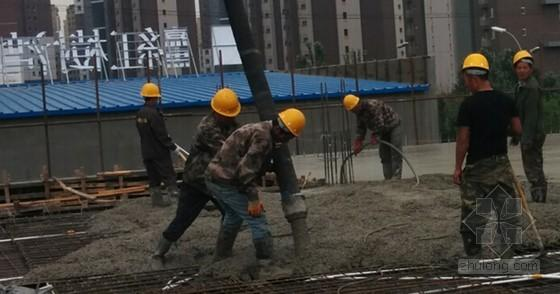gloves: (247, 199, 263, 217), (353, 137, 363, 153)
hard-hat: (210, 87, 241, 117), (277, 108, 306, 137), (460, 52, 490, 74), (512, 49, 534, 66), (140, 81, 161, 97), (343, 93, 360, 110)
person: (203, 106, 310, 267), (151, 87, 244, 263), (452, 51, 523, 259), (510, 48, 548, 202), (135, 82, 181, 207), (341, 93, 403, 179)
